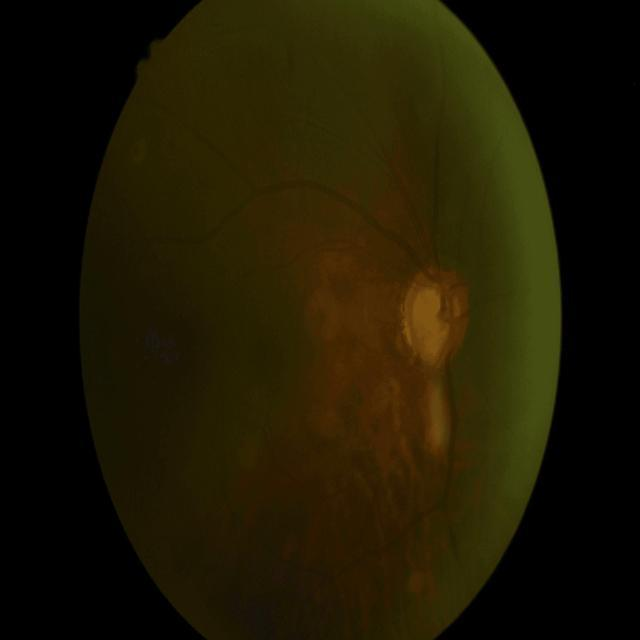cup: (413, 277, 461, 357)
disk: (402, 268, 470, 364)
